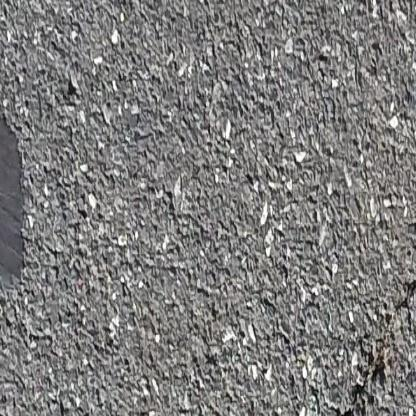Cracks: (389, 172, 416, 317), (317, 380, 367, 416)
